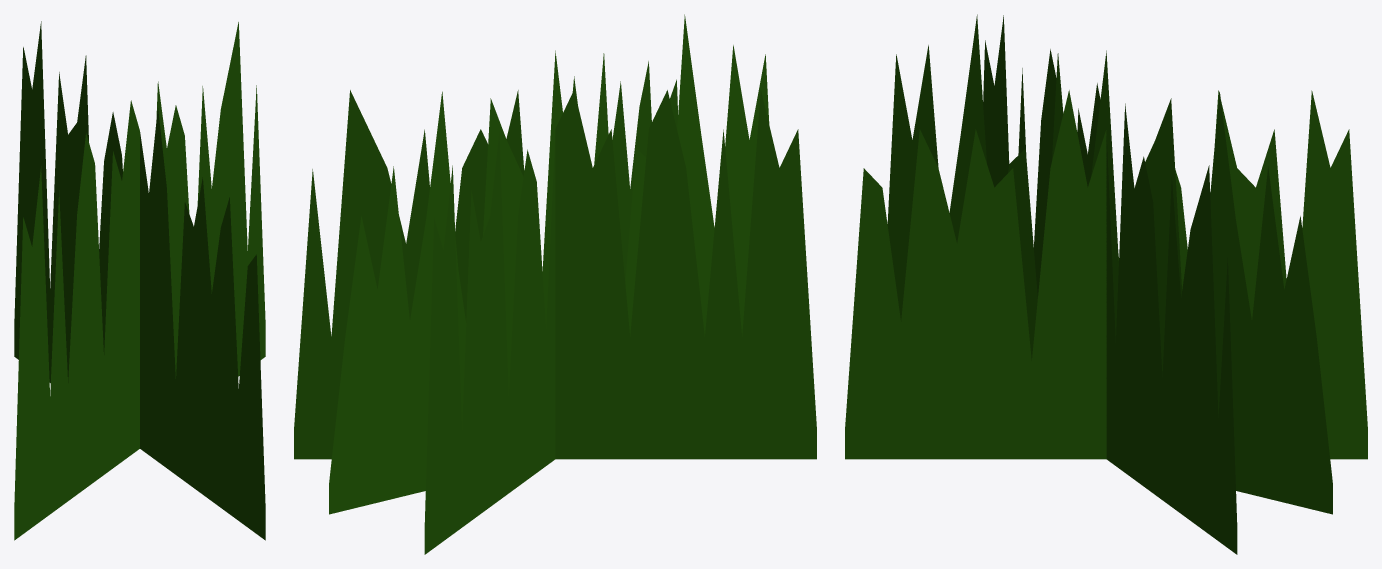
File: Grass01.fbx
3 renders of one model, left to right at view 1: azimuth 30°, elevation 25°; view 2: azimuth 150°, elevation 25°; view 3: azimuth 270°, elevation 25°, orthographic. The views are drawn at different scales.
Parts seen in each view (by area): view 1: Cube; view 2: Cube; view 3: Cube.
Part boxes in pixels (x1,y1,x2,y2): Cube: (14, 21, 265, 540); Cube: (294, 14, 816, 554); Cube: (845, 14, 1367, 554).
Size of the model in its own units: 29281 by 29527 by 33811.
